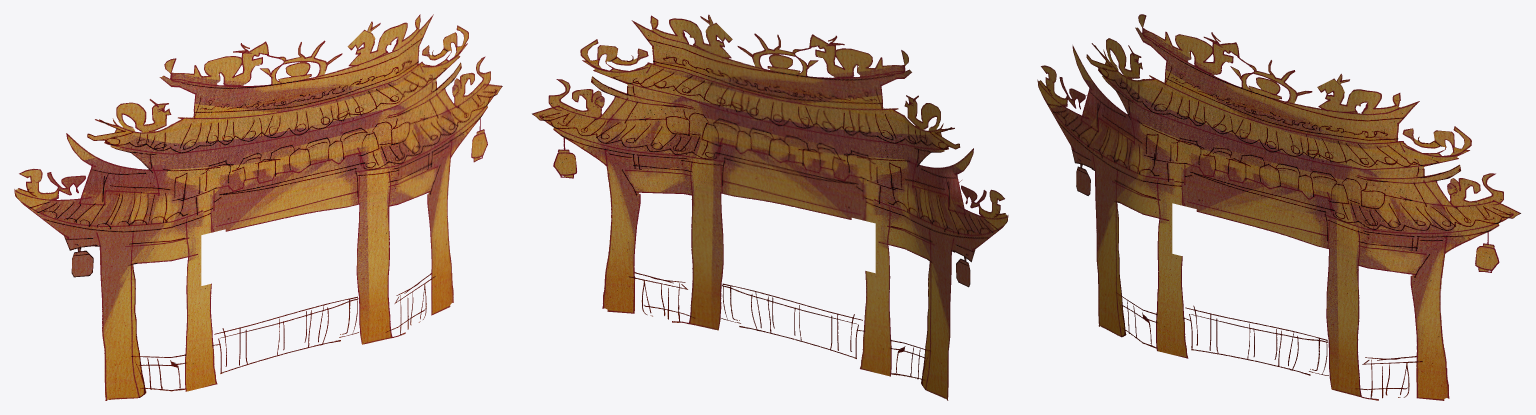
The model's file is 02_front_bld_03.fbx.
3 renders of one model, left to right at view 1: azimuth 30°, elevation 25°; view 2: azimuth 150°, elevation 25°; view 3: azimuth 330°, elevation 25°, orthographic. The views are drawn at different scales.
Parts seen in each view (by area): view 1: 02_前_房子_03; view 2: 02_前_房子_03; view 3: 02_前_房子_03.
Part boxes in pixels (bbox=[...]): 02_前_房子_03: bbox=[14, 14, 502, 400]; 02_前_房子_03: bbox=[532, 14, 1008, 400]; 02_前_房子_03: bbox=[1037, 14, 1520, 400].
Size of the model in its own units: 391 by 257 by 36.64.
Materials: 1 (1 with a texture image).
